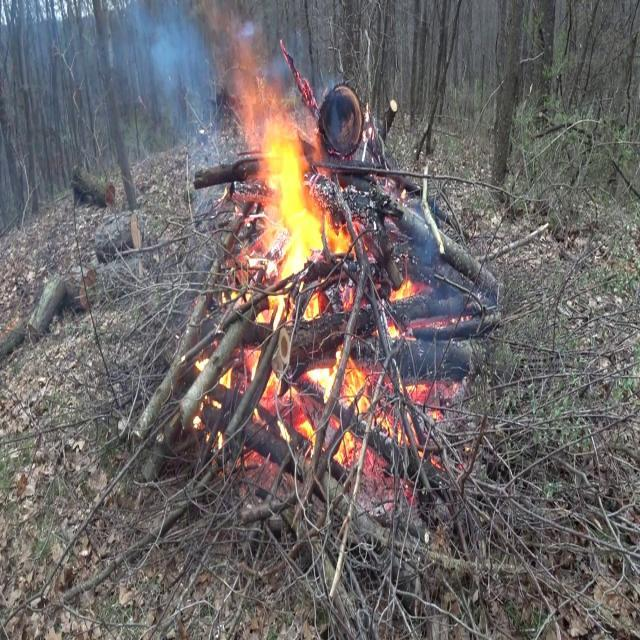Fire: (206, 50, 416, 464)
Smoke: (130, 2, 232, 187)
